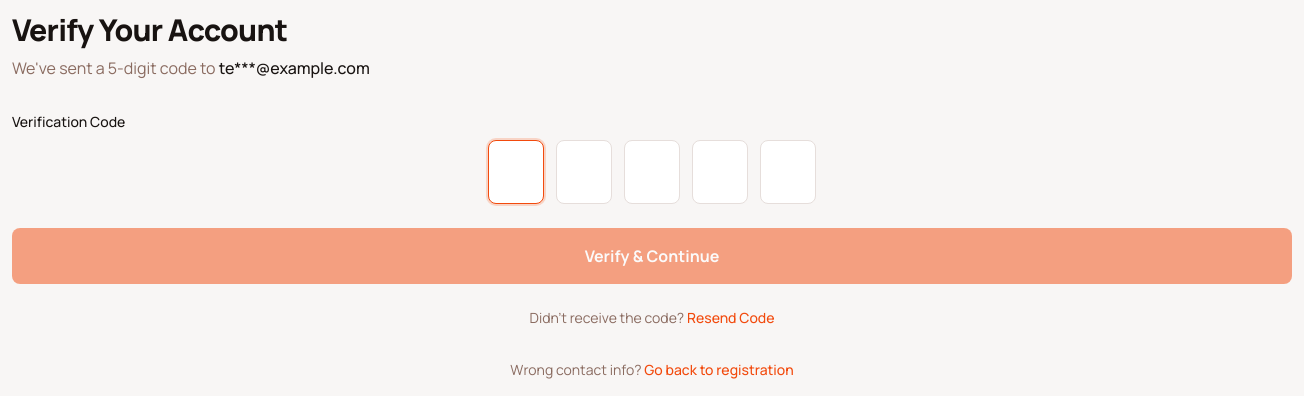
VerifyPage › resend functionality › resets cooldown after resend
// Click resend
Click the button with test id "verify-resend-button": (731,318) [687,308,774,328]
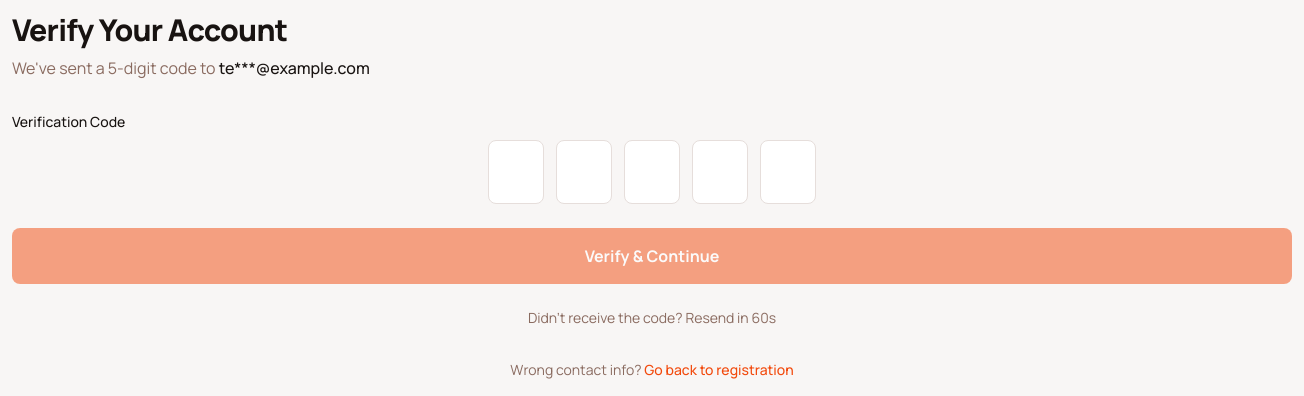
Now the text "Resend in 60s" is shown, box [685,308,776,327]
